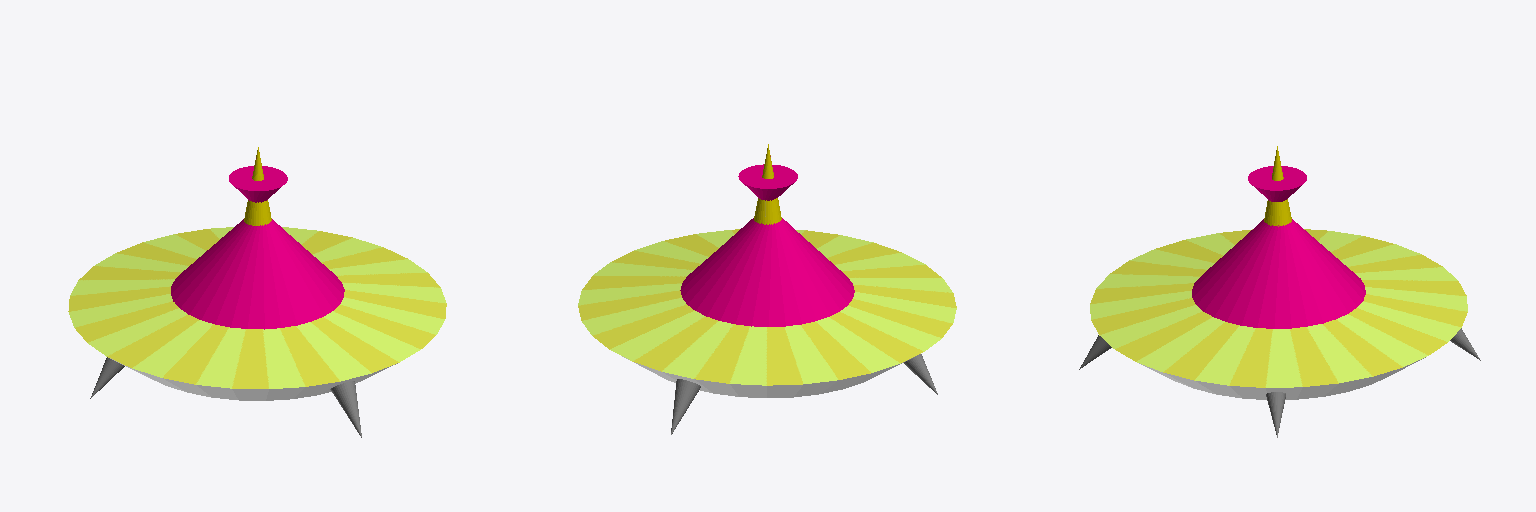
The picture shows the model from 3 angles: view 1: azimuth 30°, elevation 25°; view 2: azimuth 150°, elevation 25°; view 3: azimuth 270°, elevation 25°; orthographic projection.
Parts seen in each view (by area): view 1: Cone; view 2: Cone; view 3: Cone.
Part boxes in pixels (bbox=[...]): Cone: bbox=[68, 147, 446, 437]; Cone: bbox=[578, 144, 956, 434]; Cone: bbox=[1079, 146, 1480, 437].
Bounding box in the file's own units: 6.36 × 4.01 × 6.58.
Materials: 6 (1 with a texture image).